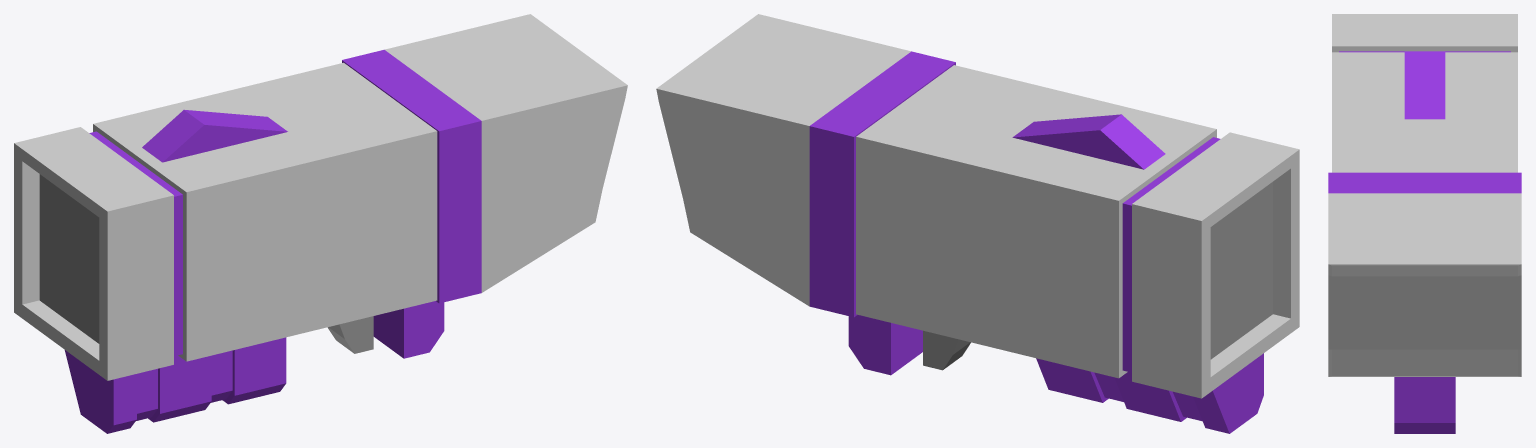
Rendered from BAZUKA.fbx.
The picture shows the model from 3 angles, left to right: view 1: azimuth 30°, elevation 25°; view 2: azimuth 150°, elevation 25°; view 3: azimuth 270°, elevation 25°; orthographic projection. The views are drawn at different scales.
Parts seen in each view (by area): view 1: Cube, Cube.001, Cube.002, Cube.003, Cube.004; view 2: Cube, Cube.001, Cube.002, Cube.003, Cube.004; view 3: Cube, Cube.003, Cube.002.
Part boxes in pixels (left/top/right/bottom): Cube: left=14, top=14, right=627, bottom=380; Cube.001: left=64, top=337, right=286, bottom=433; Cube.002: left=142, top=109, right=287, bottom=162; Cube.003: left=373, top=301, right=444, bottom=358; Cube.004: left=327, top=316, right=373, bottom=353; Cube: left=656, top=14, right=1299, bottom=398; Cube.001: left=1036, top=353, right=1263, bottom=433; Cube.002: left=1012, top=114, right=1165, bottom=169; Cube.003: left=848, top=315, right=922, bottom=375; Cube.004: left=923, top=330, right=970, bottom=370; Cube: left=1328, top=14, right=1521, bottom=376; Cube.003: left=1394, top=377, right=1455, bottom=433; Cube.002: left=1404, top=51, right=1445, bottom=119.
Bounding box in the file's own units: 640 × 328 × 208.
